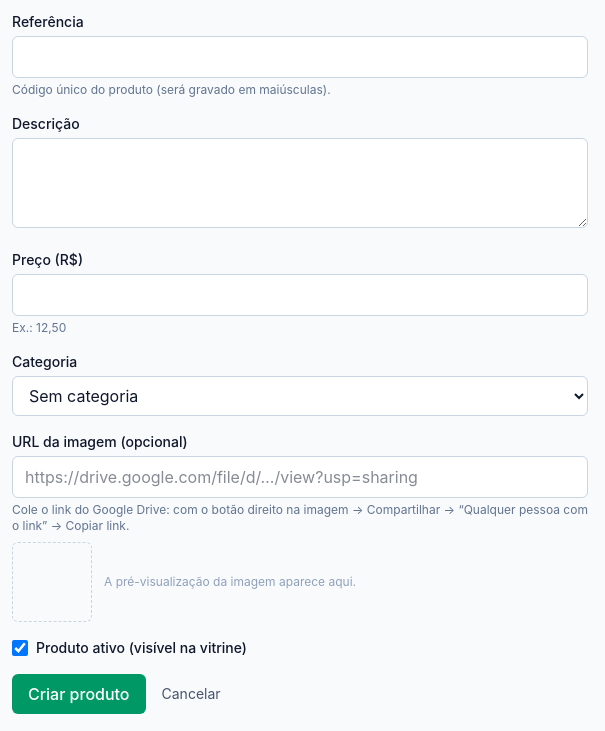
Test: ProductForm › prévia da imagem › avisa na hora quando o link é de uma pasta ou não é um endereço válido
Type "https://drive.google.com/drive/folders/1AbCdEfGhIjKlMnOpQrStUvWxYz" into the field labelled "URL da imagem (opcional)" at (300, 477), box [12, 456, 588, 498]
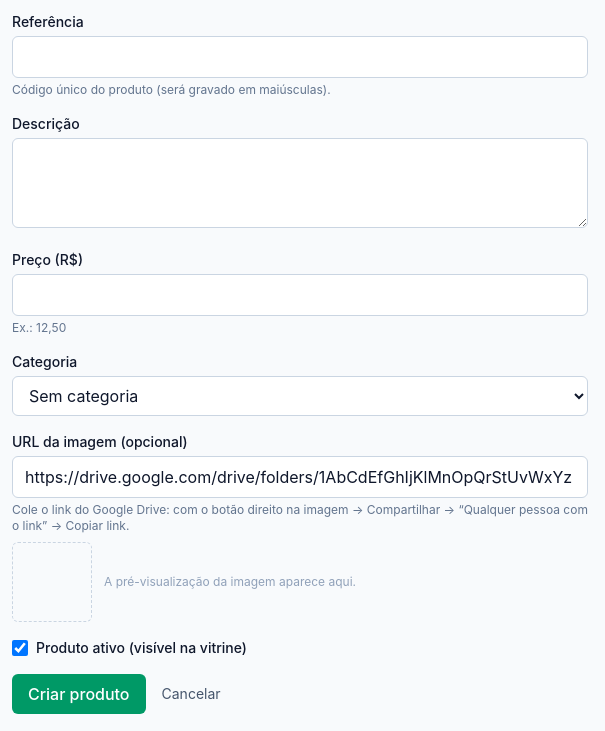
Leave the field labelled "URL da imagem (opcional)", box [12, 456, 588, 498]
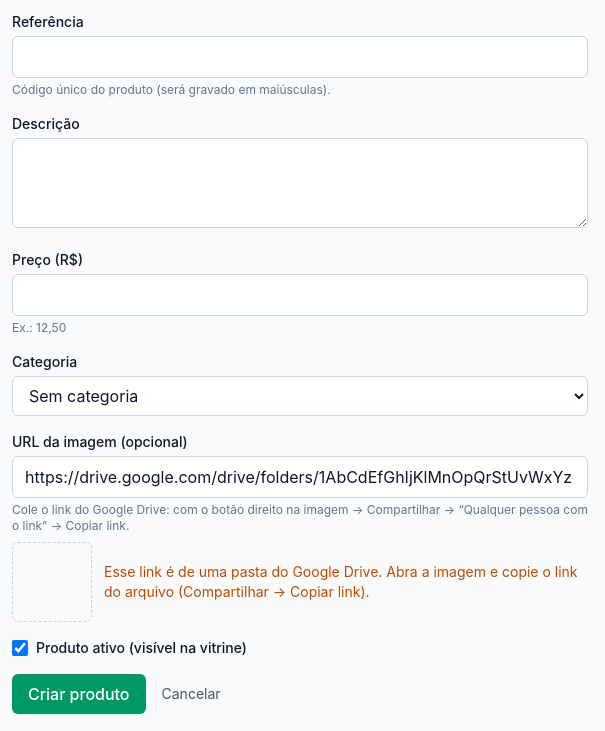
Expected: the text with test id "image-preview-warning" shows "pasta do Google Drive", [104, 563, 578, 600]
Replace the text in the field labelled "URL da imagem (opcional)" with "http://exemplo.com/a.jpg" at (300, 477), box [12, 456, 588, 498]
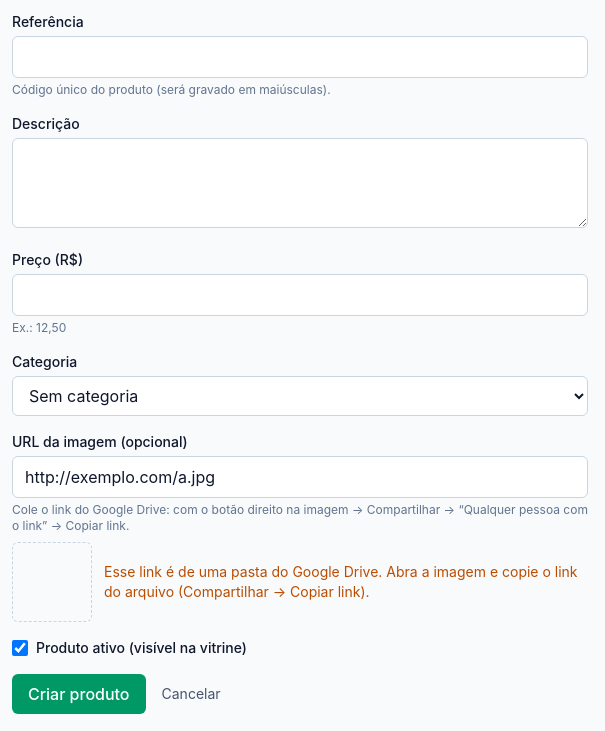
Leave the field labelled "URL da imagem (opcional)", box [12, 456, 588, 498]
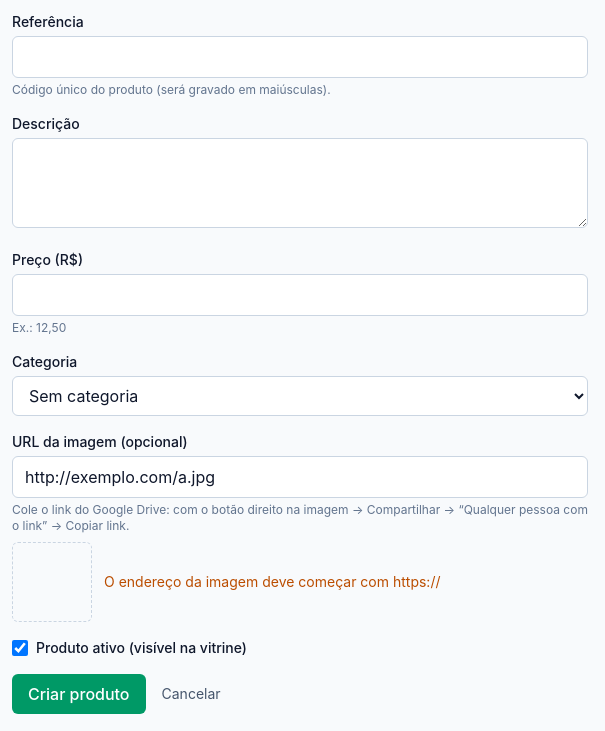
Expected: the text with test id "image-preview-warning" shows "https://", [104, 573, 440, 590]
